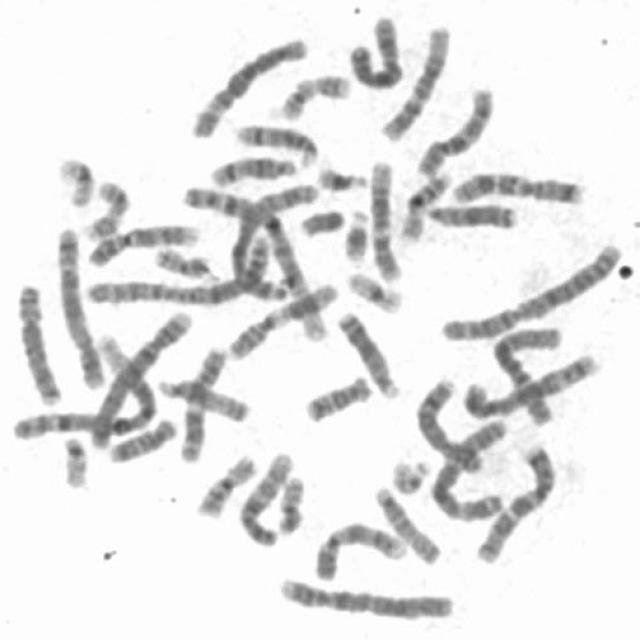A1: (5, 304, 195, 445), (174, 178, 332, 344)
A2: (434, 234, 627, 344), (76, 228, 279, 308)
A3: (225, 185, 322, 309), (428, 413, 512, 522)
B4: (274, 569, 458, 622), (82, 331, 156, 451)
B5: (457, 346, 604, 421), (51, 218, 107, 390)
C10: (410, 81, 498, 179), (232, 445, 296, 549)
C11: (221, 275, 341, 362), (174, 339, 230, 464)
C12: (376, 18, 454, 142), (365, 153, 407, 284)
C6: (184, 29, 310, 141), (486, 321, 568, 427)
C7: (469, 437, 560, 565), (446, 164, 586, 206)
C8: (410, 372, 486, 476), (9, 275, 66, 408)
C9: (309, 515, 411, 583), (83, 216, 202, 268)
D13: (332, 303, 405, 400), (418, 195, 520, 232)
D14: (230, 116, 321, 168), (205, 148, 301, 189)
D15: (368, 479, 444, 567), (152, 368, 255, 424)
E16: (190, 448, 260, 520), (394, 164, 456, 244)
E17: (274, 66, 355, 122), (78, 174, 132, 243)
E18: (299, 368, 375, 424), (103, 411, 181, 464)
F19: (341, 265, 406, 314), (51, 150, 97, 209)
F20: (149, 240, 217, 282), (272, 469, 308, 536)
G21: (338, 201, 372, 265), (310, 160, 370, 194)
G22: (56, 428, 92, 491), (386, 454, 432, 496)
X: (342, 7, 407, 92)
Y: (294, 202, 347, 240)
